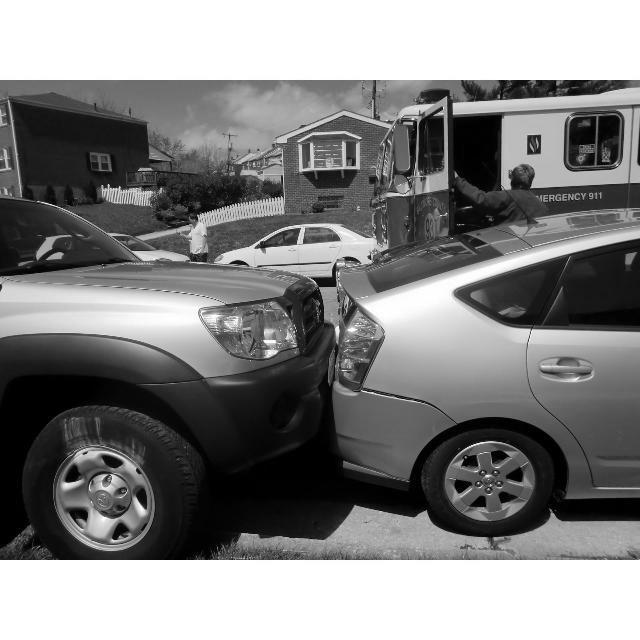front-bumper-dent: (246, 304, 336, 482)
quaterpanel-dent: (335, 334, 478, 459)
